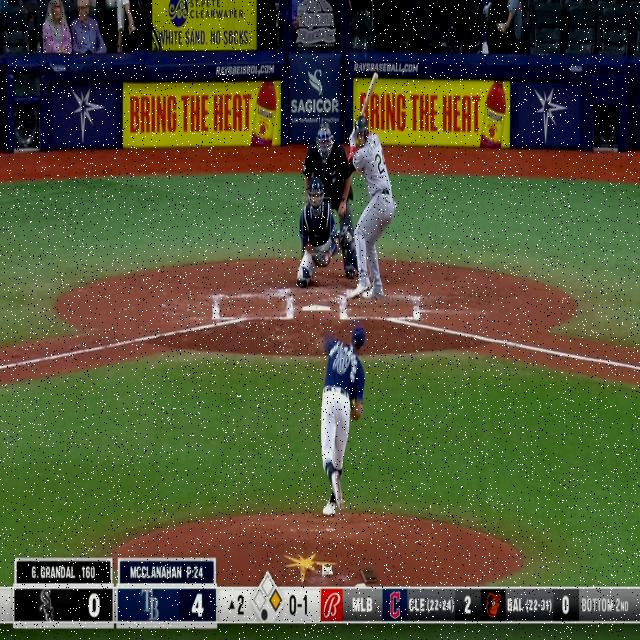baseball: (297, 267, 303, 281)
